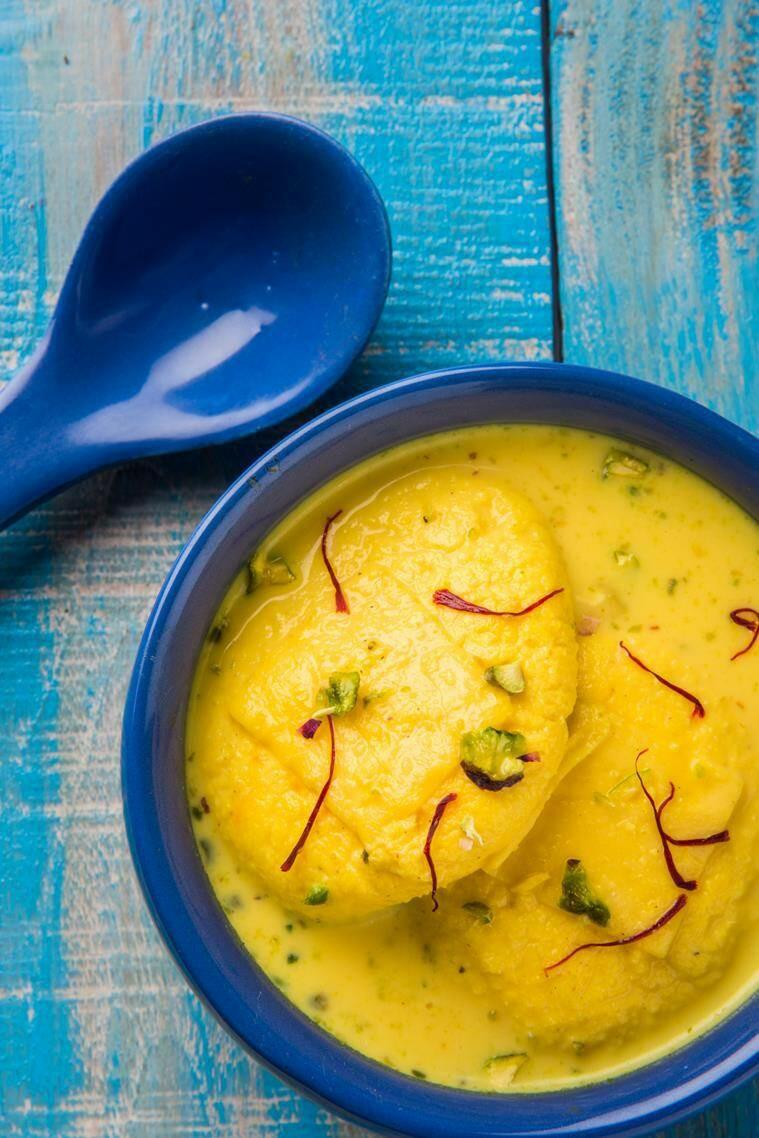RasMalai: (198, 413, 759, 1082)
